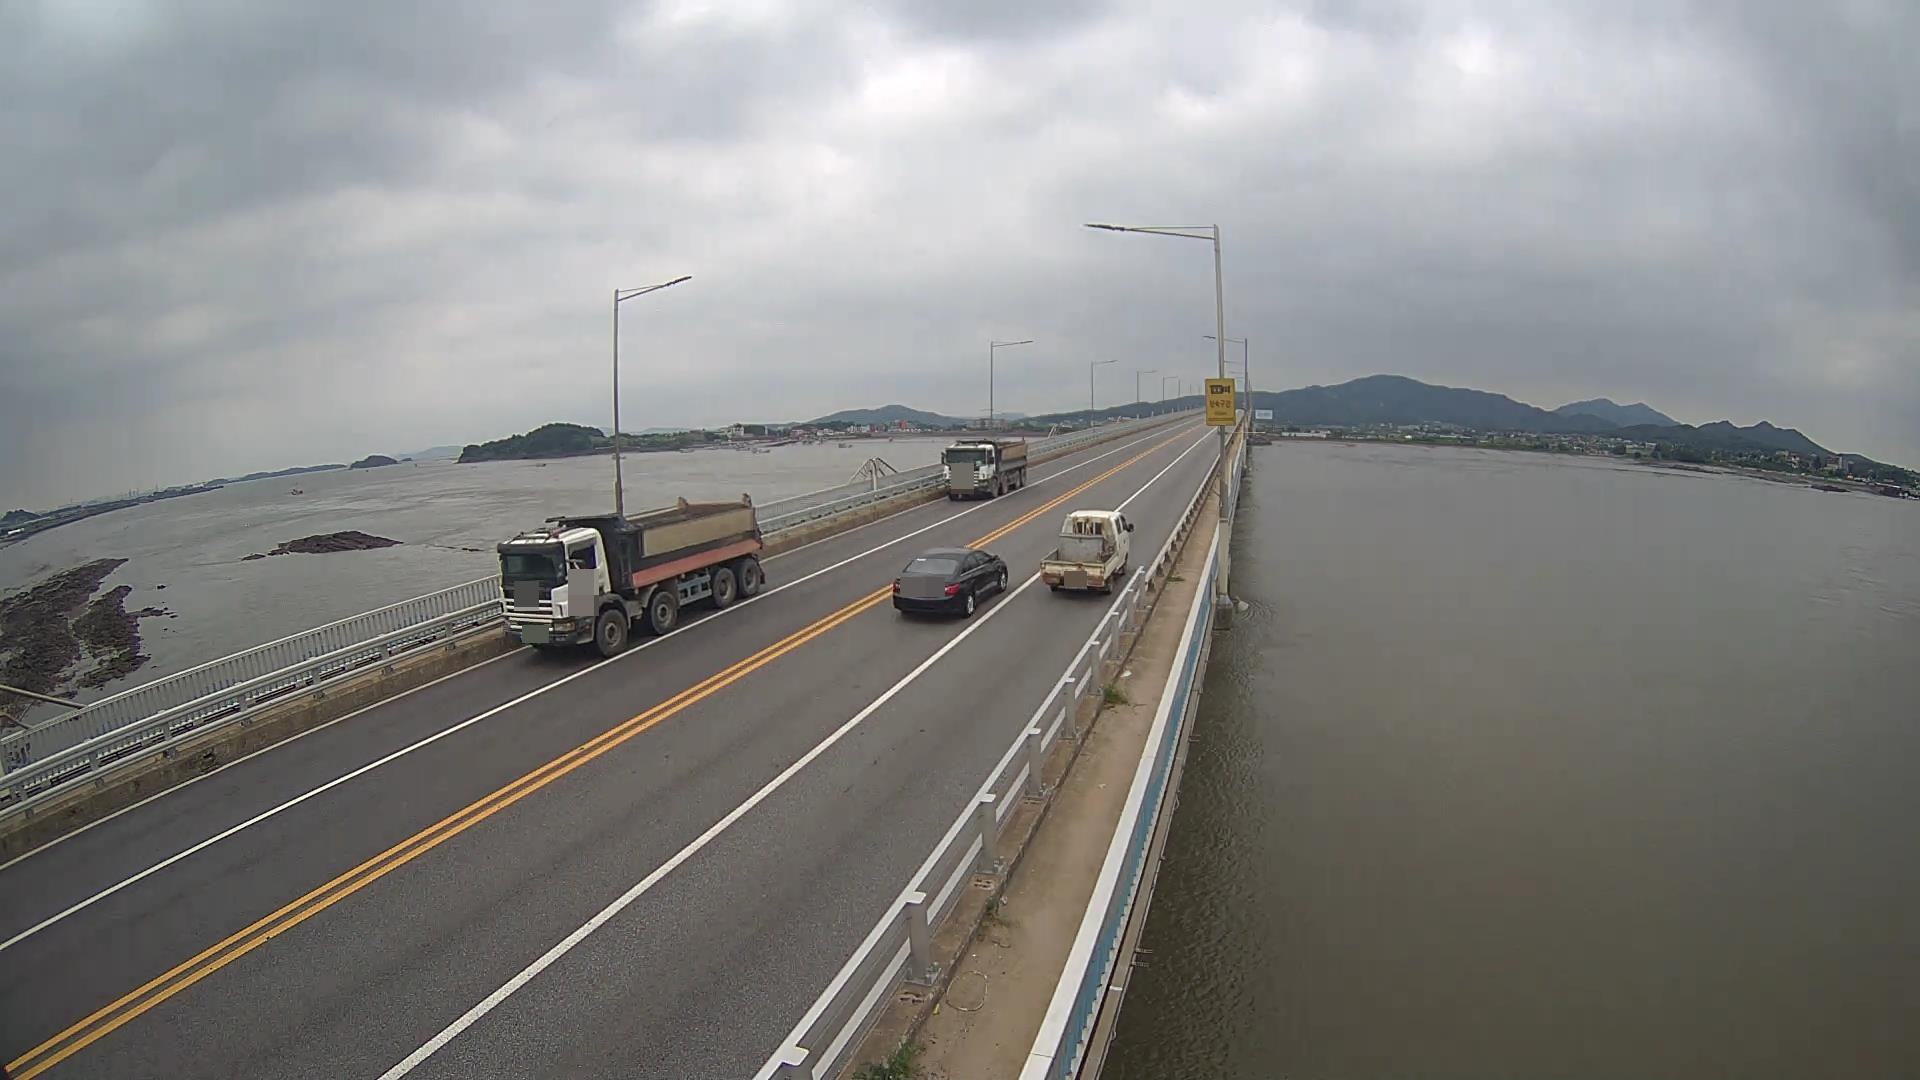정상차량: (497, 492, 766, 658)
